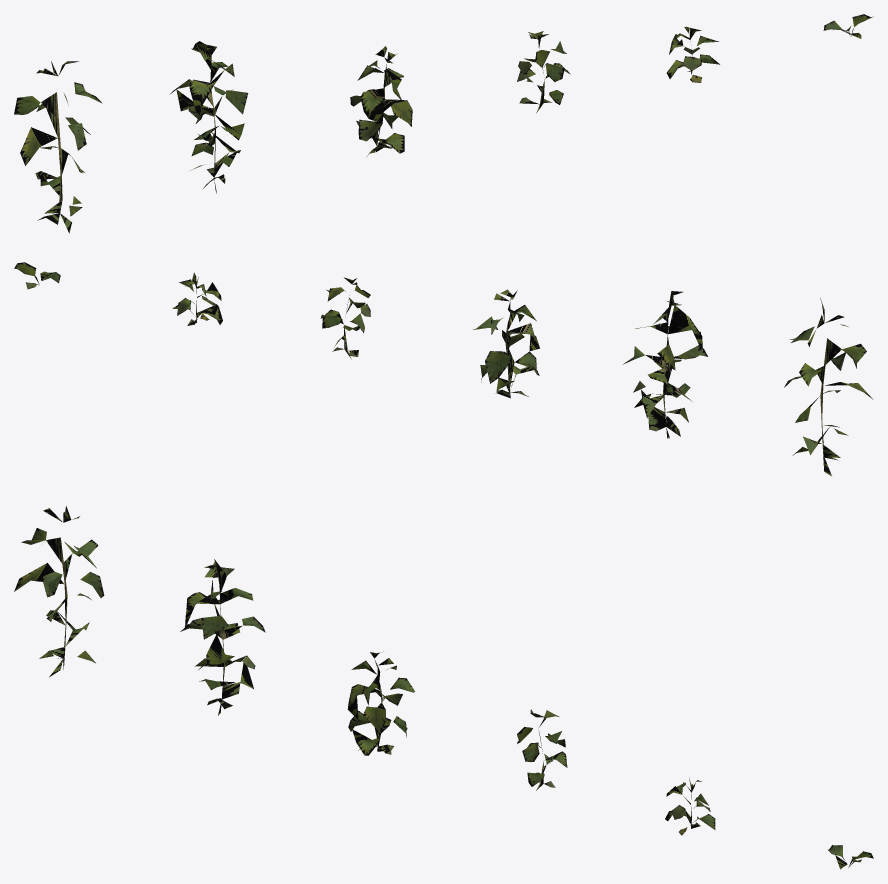
Rendered from nettle_plant.glb.
The picture shows the model from 3 angles, top to bottom: view 1: azimuth 30°, elevation 25°; view 2: azimuth 150°, elevation 25°; view 3: azimuth 330°, elevation 25°; orthographic projection.
Visible parts, largest first — view 1: nettle_plant_tall_a_LOD0, nettle_plant_tall_b_LOD0, nettle_plant_medium_a_LOD0, nettle_plant_medium_b_LOD0, nettle_plant_small_a_LOD0; view 2: nettle_plant_tall_b_LOD0, nettle_plant_medium_a_LOD0, nettle_plant_tall_a_LOD0, nettle_plant_medium_b_LOD0, nettle_plant_small_a_LOD0, nettle_plant_small_b_LOD0; view 3: nettle_plant_tall_b_LOD0, nettle_plant_tall_a_LOD0, nettle_plant_medium_a_LOD0, nettle_plant_medium_b_LOD0, nettle_plant_small_a_LOD0.
Part boxes in pixels (x1,y1,x2,y2): nettle_plant_tall_a_LOD0: [14, 61, 102, 233]; nettle_plant_tall_b_LOD0: [169, 41, 248, 193]; nettle_plant_medium_a_LOD0: [350, 46, 412, 156]; nettle_plant_medium_b_LOD0: [517, 31, 570, 113]; nettle_plant_small_a_LOD0: [666, 26, 719, 82]; nettle_plant_tall_b_LOD0: [623, 291, 707, 438]; nettle_plant_medium_a_LOD0: [473, 289, 539, 398]; nettle_plant_tall_a_LOD0: [784, 297, 873, 476]; nettle_plant_medium_b_LOD0: [320, 277, 370, 359]; nettle_plant_small_a_LOD0: [172, 272, 222, 325]; nettle_plant_small_b_LOD0: [14, 262, 60, 289]; nettle_plant_tall_b_LOD0: [180, 559, 265, 715]; nettle_plant_tall_a_LOD0: [14, 505, 104, 677]; nettle_plant_medium_a_LOD0: [347, 651, 415, 755]; nettle_plant_medium_b_LOD0: [517, 709, 567, 790]; nettle_plant_small_a_LOD0: [665, 777, 715, 835].
Bounding box in the file's own units: 1.08 × 0.2095 × 0.0947.
1 material, 1 textured.
